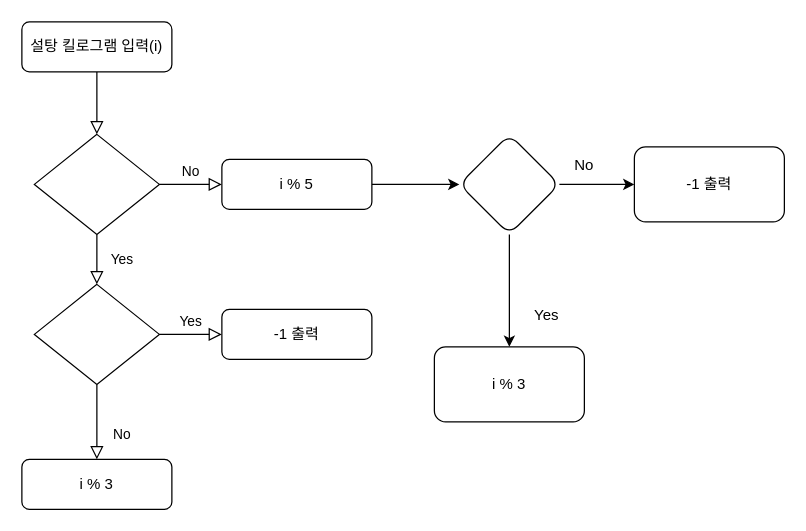
Some shapes in this 806 by 531 pixel diagram are drawn without their labels. The box of each missing label's shape, as (x1, y1, x2, y2) in pixels:
i <= 3kg: (33, 283, 159, 384)
i <= 5kg: (33, 133, 159, 234)
i > 3kg: (458, 133, 559, 234)
